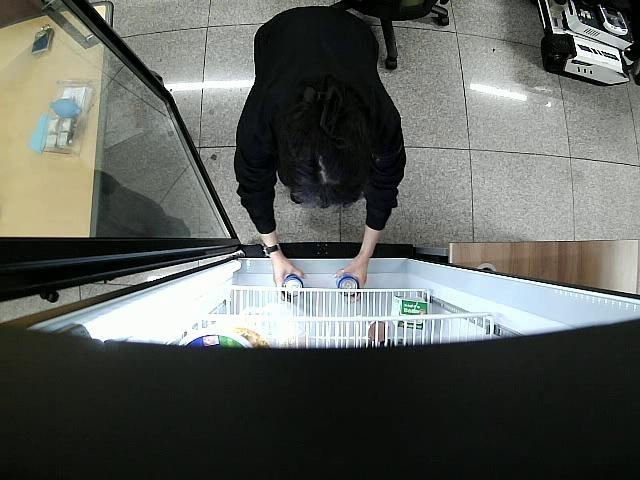13_pocariSweat: (334, 276, 362, 302), (282, 274, 305, 300)
